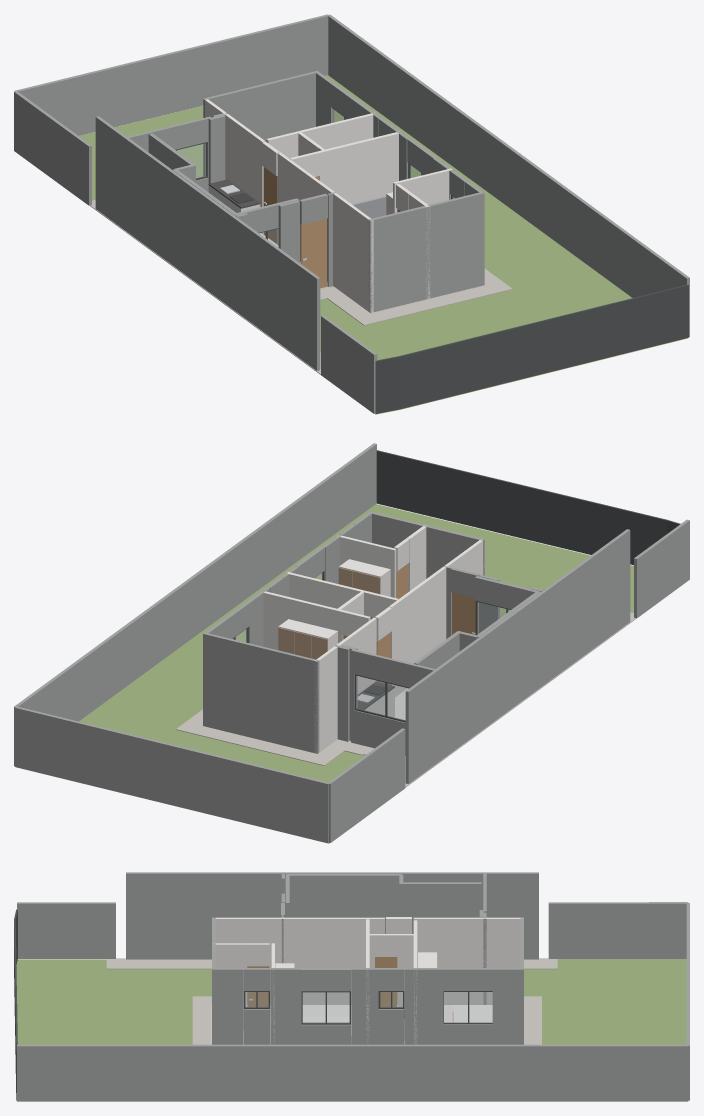
File: casa.glb
3 views of the same model, one above another, from view 1: azimuth 30°, elevation 25°; view 2: azimuth 150°, elevation 25°; view 3: azimuth 270°, elevation 25° (orthographic). The views are drawn at different scales.
Parts seen in each view (by area): view 1: fachada, grama, parede, esquadria, concreto, door3_swing__porta, vidro, door5_swing__porta; view 2: fachada, parede, grama, esquadria, concreto, vidro, armario, madeira, door3_swing__porta; view 3: fachada, grama, parede, vidro, concreto, esquadria, enxoval, piso, door0_swing__porta, armario, door2_swing__porta.
Boxes of the visible parts, x1,y1,x2,y2 form: fachada: [14, 14, 689, 413]; grama: [79, 75, 687, 414]; parede: [203, 99, 452, 312]; esquadria: [175, 108, 688, 413]; concreto: [90, 200, 512, 374]; door3_swing__porta: [300, 218, 326, 288]; vidro: [177, 109, 454, 246]; door5_swing__porta: [263, 167, 277, 244]; fachada: [14, 443, 689, 843]; parede: [263, 525, 484, 752]; grama: [16, 504, 633, 843]; esquadria: [232, 450, 680, 722]; concreto: [175, 612, 636, 787]; vidro: [233, 573, 510, 720]; armario: [278, 559, 394, 717]; madeira: [278, 567, 380, 659]; door3_swing__porta: [452, 592, 478, 634]; fachada: [17, 872, 689, 1101]; grama: [16, 959, 686, 1044]; parede: [215, 917, 523, 1044]; vidro: [245, 992, 492, 1022]; concreto: [106, 958, 557, 1044]; esquadria: [14, 909, 492, 1100]; enxoval: [302, 1005, 492, 1042]; piso: [125, 959, 538, 1044]; door0_swing__porta: [375, 957, 396, 1006]; armario: [275, 952, 436, 1040]; door2_swing__porta: [247, 966, 269, 1006].
Bounding box in the file's own units: 10.07 × 2.83 × 19.95.
